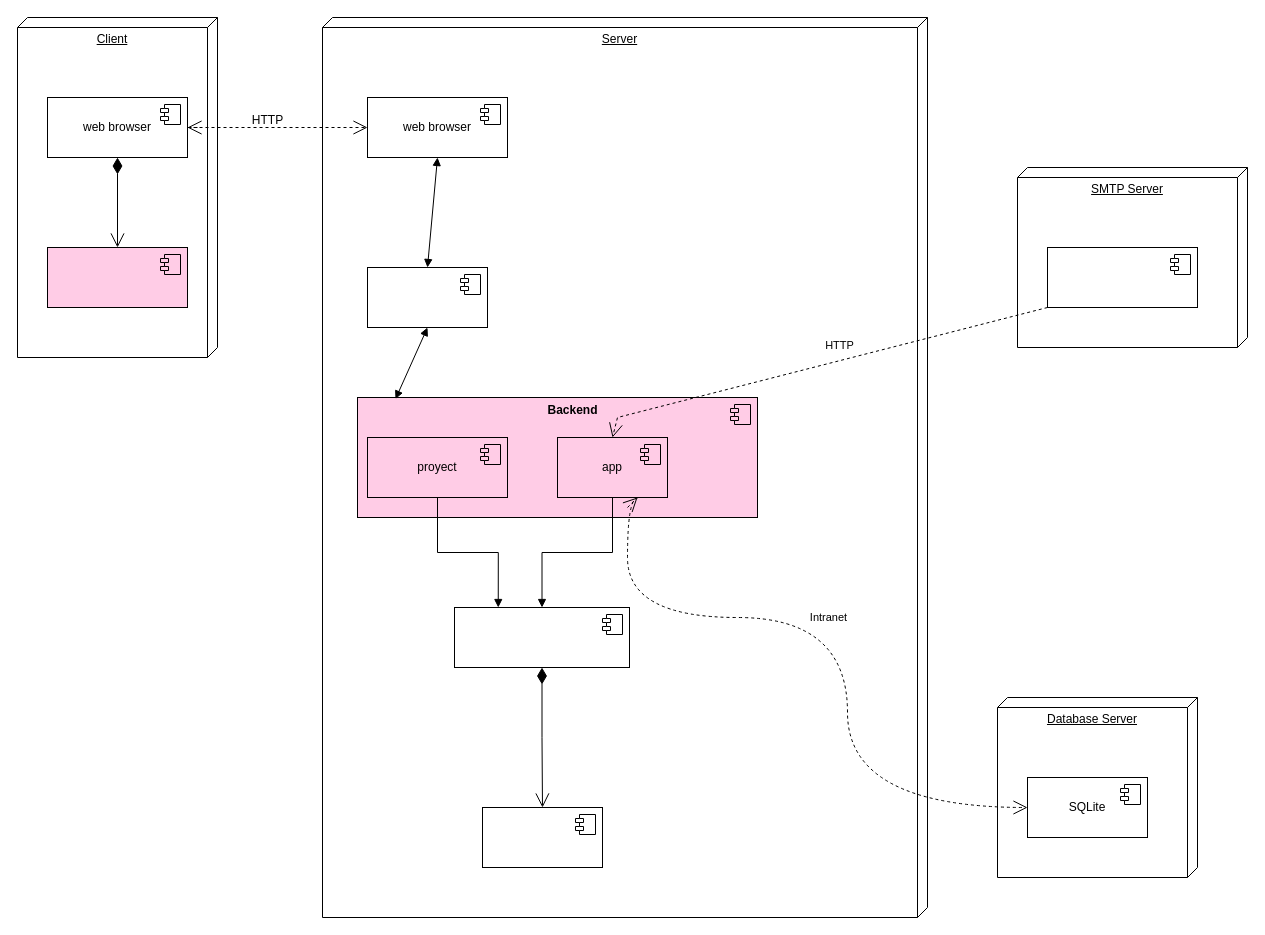
Image size: 1265x935. Some labels were removed from this diagram. The shapes that lost their labels are listed below. From the top down, each one's centre as x and y in pixels, then its label:
At pixel 117 277: "frontend".
At pixel 427 297: "wsgi".
At pixel 1122 277: "smtp.gmail.com".
At pixel 542 637: "python-site-packages".
At pixel 542 837: "django".
